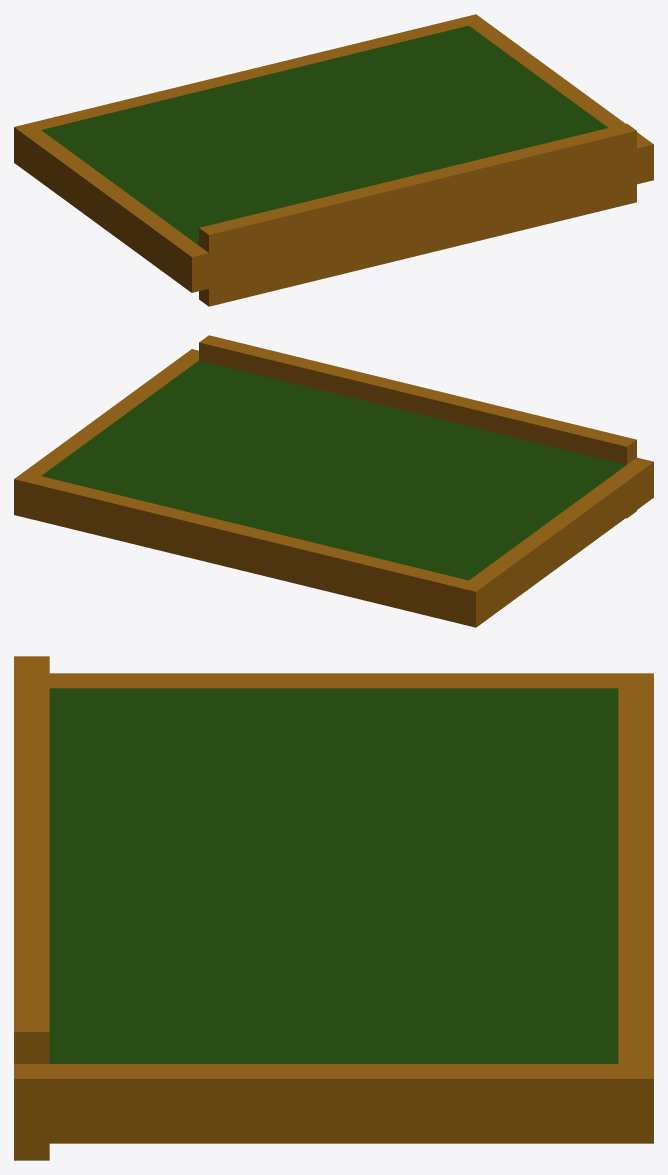
File: Chalkboard.gltf
The picture shows the model from 3 angles, top to bottom: view 1: azimuth 30°, elevation 25°; view 2: azimuth 150°, elevation 25°; view 3: azimuth 270°, elevation 25°; orthographic projection. The views are drawn at different scales.
Visible parts, largest first — view 1: Layer.1; view 2: Layer.1; view 3: Layer.1.
Boxes of the visible parts, x1=… form: Layer.1: x1=14, y1=14, x2=653, y2=306; Layer.1: x1=14, y1=335, x2=653, y2=627; Layer.1: x1=14, y1=656, x2=653, y2=1160.
Size of the model in its own units: 27 by 4 by 18.
Materials: 1 (1 with a texture image).
